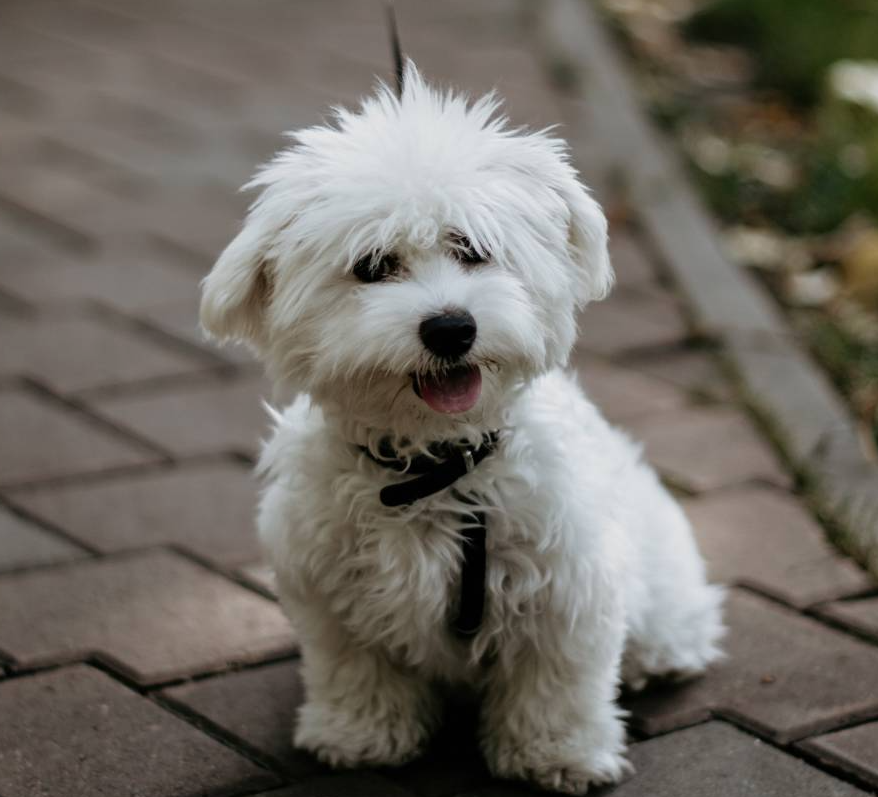perro: (191, 37, 719, 797)
